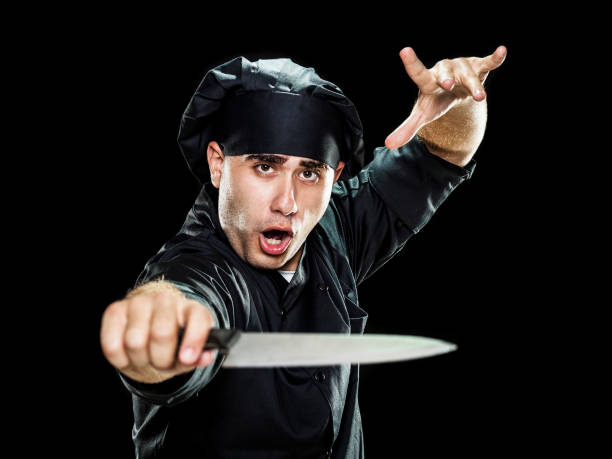knife: (218, 328, 460, 369)
